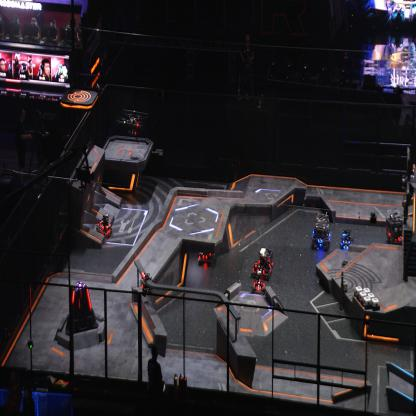car: (310, 211, 332, 251), (250, 244, 274, 280), (384, 212, 405, 244), (197, 241, 214, 267), (96, 214, 113, 238), (251, 271, 266, 296), (339, 229, 353, 252)
